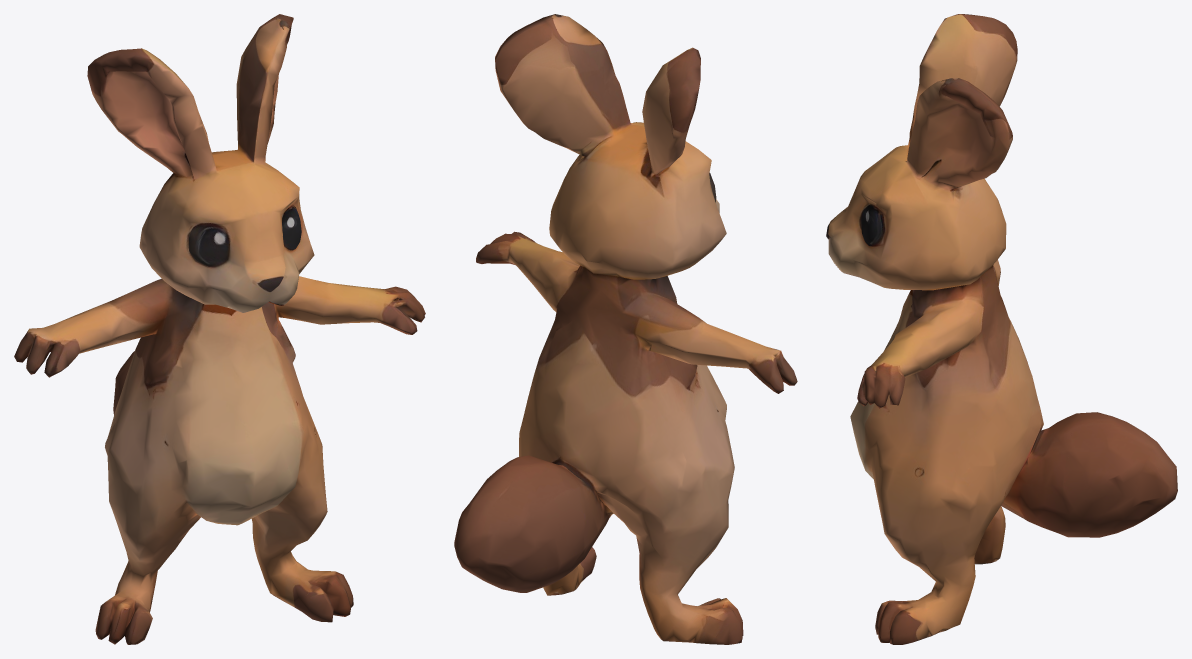
The model's file is saltito.glb.
3 views of the same model, side by side, from view 1: azimuth 30°, elevation 25°; view 2: azimuth 150°, elevation 25°; view 3: azimuth 270°, elevation 25° (orthographic). The views are drawn at different scales.
Visible parts, largest first — view 1: tripo_node_93cfa69a-1aad-47e5-9104-9accd9a29b5d; view 2: tripo_node_93cfa69a-1aad-47e5-9104-9accd9a29b5d; view 3: tripo_node_93cfa69a-1aad-47e5-9104-9accd9a29b5d.
Part boxes in pixels (box(x1,y1,x2,y2)): tripo_node_93cfa69a-1aad-47e5-9104-9accd9a29b5d: box(14, 14, 425, 644); tripo_node_93cfa69a-1aad-47e5-9104-9accd9a29b5d: box(454, 14, 797, 644); tripo_node_93cfa69a-1aad-47e5-9104-9accd9a29b5d: box(826, 14, 1177, 644).
Size of the model in its own units: 0.6398 by 1 by 0.576.
1 material, 1 textured.
